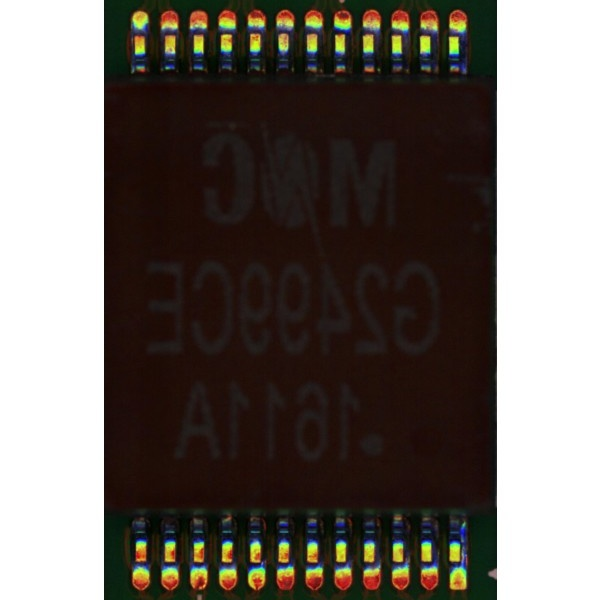Bad_qiaojiao: (461, 522, 467, 568)
